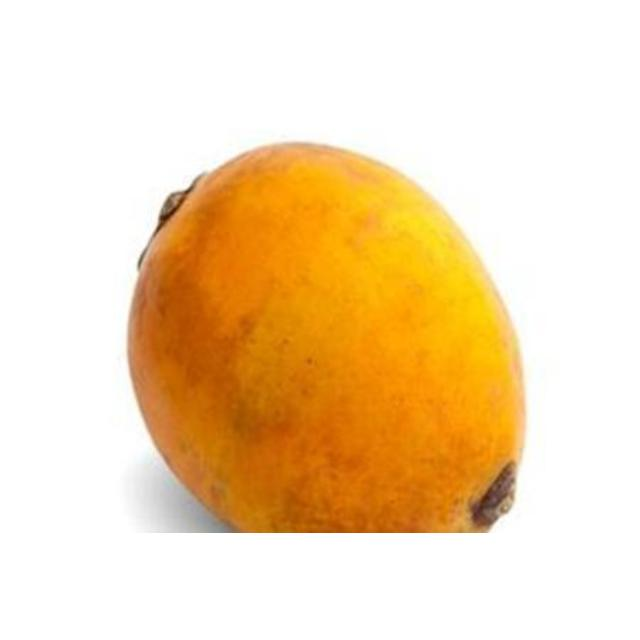good: (124, 143, 528, 532)
